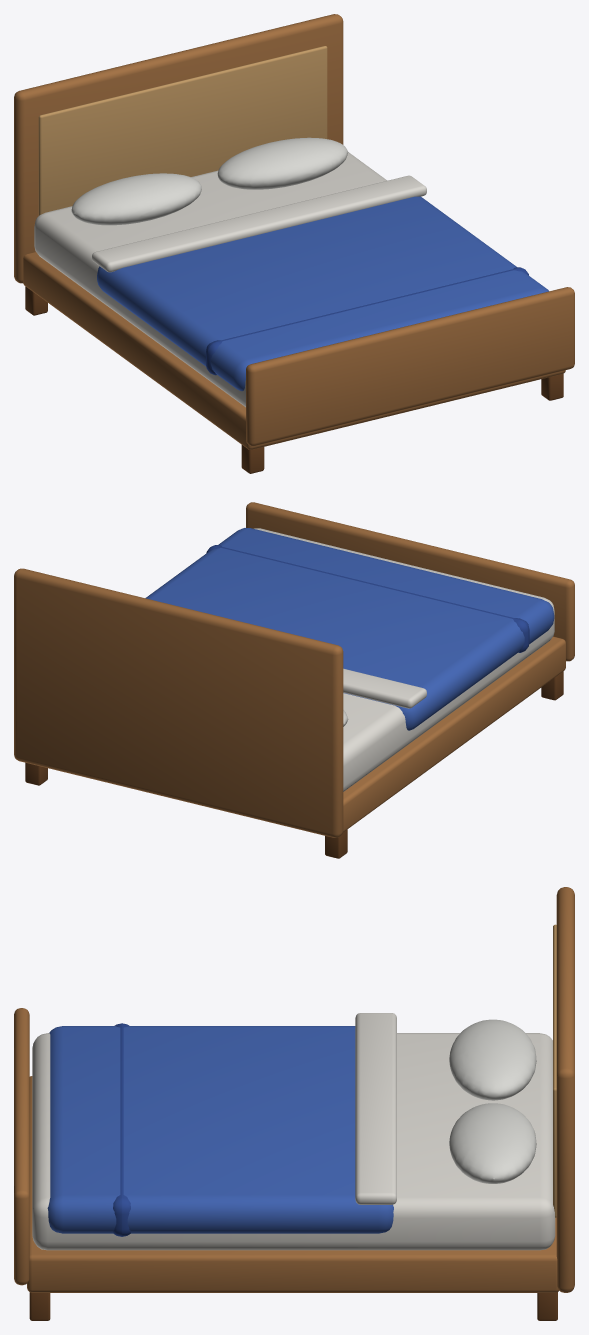
File: bed_double.glb
The picture shows the model from 3 angles, top to bottom: view 1: azimuth 30°, elevation 25°; view 2: azimuth 150°, elevation 25°; view 3: azimuth 270°, elevation 25°; orthographic projection. The views are drawn at different scales.
Parts seen in each view (by area): view 1: bed_double; view 2: bed_double; view 3: bed_double.
Part boxes in pixels (<box>): bed_double: <box>14,14,574,473</box>; bed_double: <box>14,502,574,858</box>; bed_double: <box>14,887,574,1320</box>.
Size of the model in its own units: 1.7 by 1.08 by 2.16.
